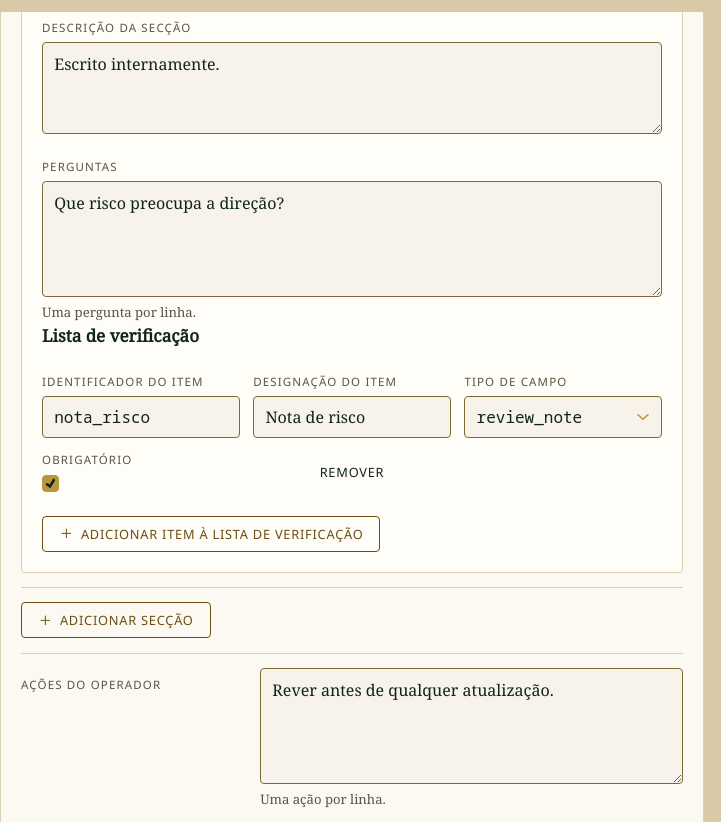
Scenario: DPIA model editor — the submit gate › refuses a malformed item identifier the server would reject
Step 1. Replace the text in the field with id "dpia-template-section-0-item-0-id" with "nota risco" → point(141, 417), box [42,396,240,438]
(page scrolled)
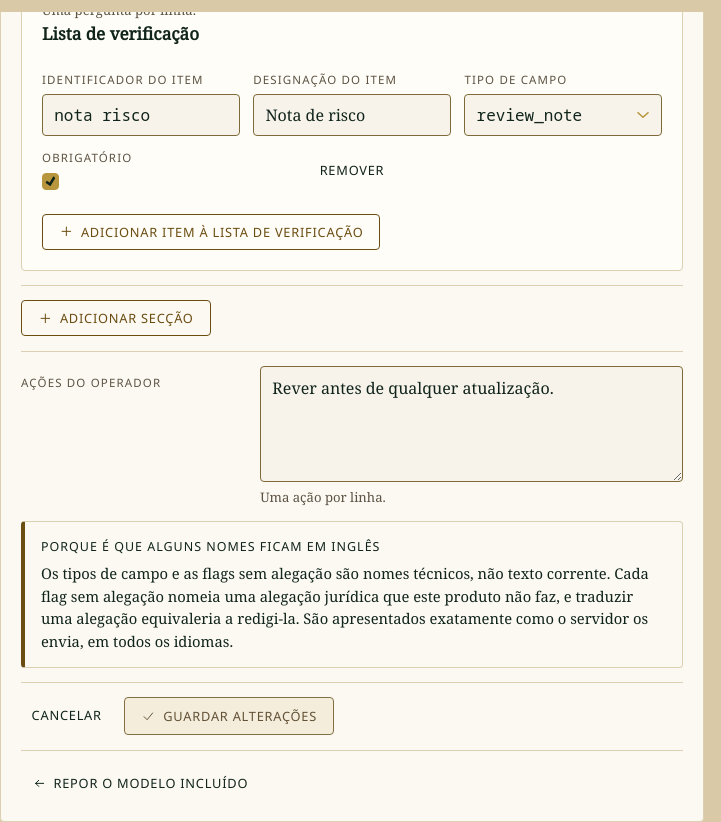
Now the button "Guardar alterações" is disabled, box [124,697,334,735]
